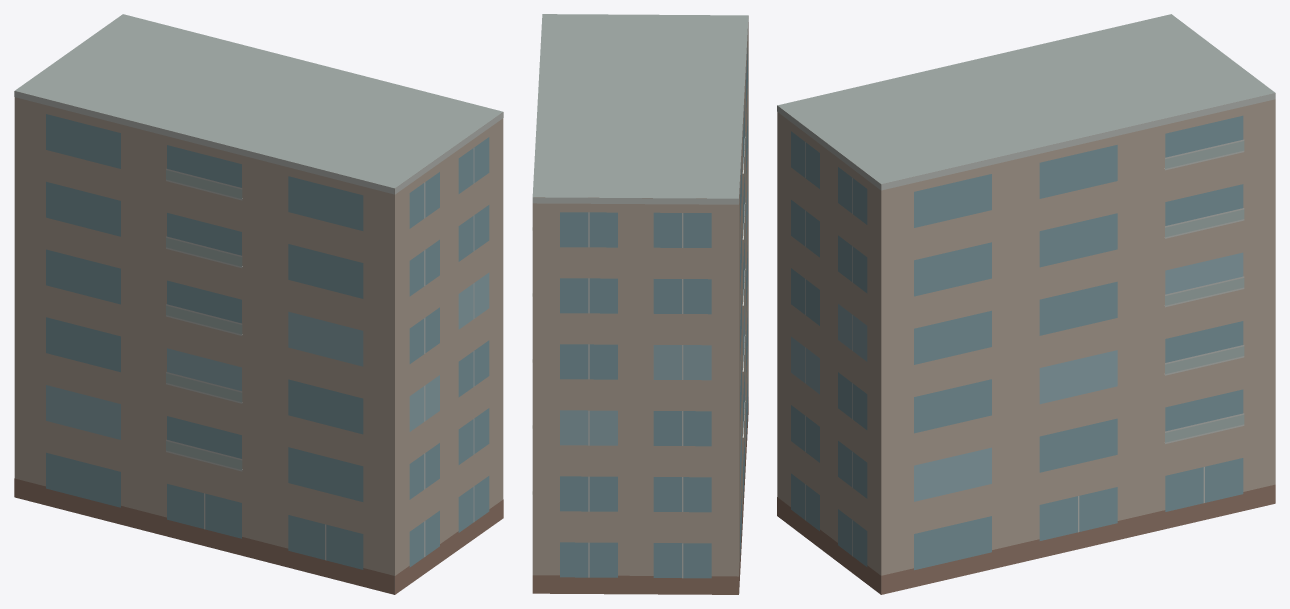
File: survey-upis-32666024.glb
The picture shows the model from 3 angles, left to right: view 1: azimuth 30°, elevation 25°; view 2: azimuth 150°, elevation 25°; view 3: azimuth 270°, elevation 25°; orthographic projection. The views are drawn at different scales.
Visible parts, largest first — view 1: survey-upis-32666024.tmp; view 2: survey-upis-32666024.tmp; view 3: survey-upis-32666024.tmp.
Boxes of the visible parts, box(x1,y1,x2,y2) form: survey-upis-32666024.tmp: box(14, 14, 503, 594); survey-upis-32666024.tmp: box(532, 14, 748, 594); survey-upis-32666024.tmp: box(777, 14, 1275, 594).
Bounding box in the file's own units: 14.15 × 15.9 × 17.5.
